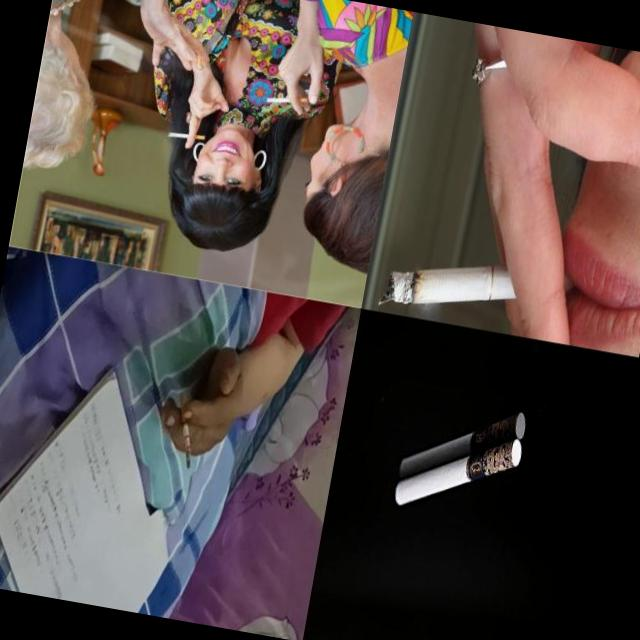cigarette: (376, 235, 576, 338), (391, 419, 524, 525), (397, 392, 528, 498), (168, 388, 202, 468), (265, 90, 310, 110), (165, 128, 206, 144)
